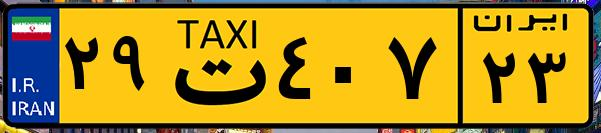0: (330, 28, 385, 110)
2: (57, 26, 110, 100), (475, 38, 525, 113)
3: (525, 38, 570, 115)
4: (270, 28, 330, 110)
7: (385, 28, 445, 110)
9: (110, 28, 158, 98)
ت: (158, 12, 270, 120)
